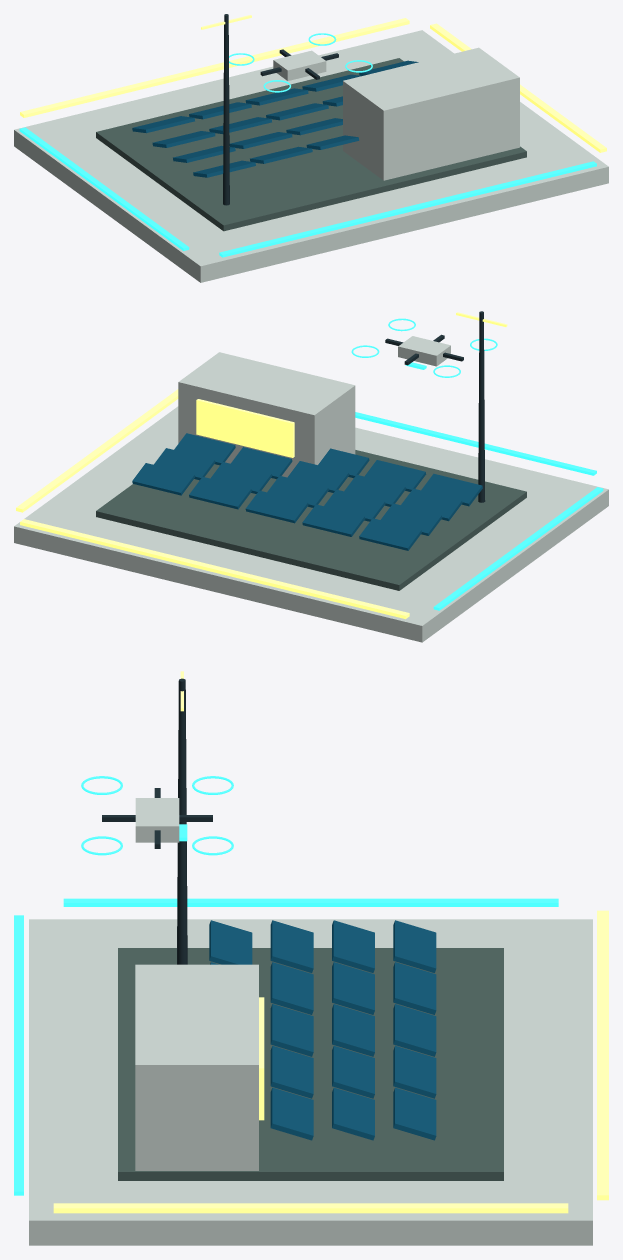
File: solar-operations-landmark.glb
3 renders of one model, top to bottom at view 1: azimuth 30°, elevation 25°; view 2: azimuth 150°, elevation 25°; view 3: azimuth 270°, elevation 25°, orthographic. The views are drawn at different scales.
Visible parts, largest first — view 1: rj-solar-operations-landmark-clickable-district-pad, rj-solar-operations-landmark-inner-service-plaza, rj-solar-operations-landmark-inverter-hall, rj-solar-operations-landmark-front-status-rail, rj-solar-operations-landmark-rear-service-rail, rj-solar-operations-landmark-left-service-rail, rj-solar-operations-landmark-right-status-rail, rj-solar-operations-landmark-met-mast, rj-solar-operations-landmark-solar-inspection-drone-body, rj-solar-operations-landmark-pv-panel-1-1, rj-solar-operations-landmark-pv-panel-2-1, rj-solar-operations-landmark-pv-panel-2-3 (+10 smaller); view 2: rj-solar-operations-landmark-clickable-district-pad, rj-solar-operations-landmark-inner-service-plaza, rj-solar-operations-landmark-inverter-hall, rj-solar-operations-landmark-inverter-glass-bay, rj-solar-operations-landmark-front-status-rail, rj-solar-operations-landmark-right-status-rail, rj-solar-operations-landmark-rear-service-rail, rj-solar-operations-landmark-left-service-rail, rj-solar-operations-landmark-pv-panel-1-3, rj-solar-operations-landmark-pv-panel-1-2, rj-solar-operations-landmark-pv-panel-1-1, rj-solar-operations-landmark-pv-panel-1-4 (+16 smaller); view 3: rj-solar-operations-landmark-clickable-district-pad, rj-solar-operations-landmark-inner-service-plaza, rj-solar-operations-landmark-inverter-hall, rj-solar-operations-landmark-right-status-rail, rj-solar-operations-landmark-left-service-rail, rj-solar-operations-landmark-front-status-rail, rj-solar-operations-landmark-rear-service-rail, rj-solar-operations-landmark-met-mast, rj-solar-operations-landmark-solar-inspection-drone-body, rj-solar-operations-landmark-pv-panel-3-3, rj-solar-operations-landmark-pv-panel-1-3, rj-solar-operations-landmark-pv-panel-3-5 (+13 smaller).
Part boxes in pixels (x1,y1,x2,y2): rj-solar-operations-landmark-clickable-district-pad: (14,30,608,282); rj-solar-operations-landmark-inner-service-plaza: (96,58,526,231); rj-solar-operations-landmark-inverter-hall: (343,47,519,180); rj-solar-operations-landmark-front-status-rail: (20,18,409,117); rj-solar-operations-landmark-rear-service-rail: (219,161,596,257); rj-solar-operations-landmark-left-service-rail: (19,127,189,250); rj-solar-operations-landmark-right-status-rail: (430,23,606,152); rj-solar-operations-landmark-met-mast: (223,14,229,205); rj-solar-operations-landmark-solar-inspection-drone-body: (273,50,326,80); rj-solar-operations-landmark-pv-panel-1-1: (132,116,194,133); rj-solar-operations-landmark-pv-panel-2-1: (152,131,215,147); rj-solar-operations-landmark-pv-panel-2-3: (266,103,328,120); rj-solar-operations-landmark-clickable-district-pad: (14,406,608,642); rj-solar-operations-landmark-inner-service-plaza: (96,450,526,590); rj-solar-operations-landmark-inverter-hall: (178,352,355,477); rj-solar-operations-landmark-inverter-glass-bay: (196,399,294,457); rj-solar-operations-landmark-front-status-rail: (20,519,409,619); rj-solar-operations-landmark-right-status-rail: (16,389,178,512); rj-solar-operations-landmark-rear-service-rail: (355,412,596,475); rj-solar-operations-landmark-left-service-rail: (433,487,603,610); rj-solar-operations-landmark-pv-panel-1-3: (245,490,308,523); rj-solar-operations-landmark-pv-panel-1-2: (302,504,365,536); rj-solar-operations-landmark-pv-panel-1-1: (359,518,421,550); rj-solar-operations-landmark-pv-panel-1-4: (189,476,251,509); rj-solar-operations-landmark-clickable-district-pad: (29,919,592,1245); rj-solar-operations-landmark-inner-service-plaza: (118,948,503,1180); rj-solar-operations-landmark-inverter-hall: (135,964,258,1170); rj-solar-operations-landmark-right-status-rail: (53,1203,568,1213); rj-solar-operations-landmark-left-service-rail: (63,898,558,906); rj-solar-operations-landmark-front-status-rail: (597,910,608,1200); rj-solar-operations-landmark-rear-service-rail: (14,915,23,1195); rj-solar-operations-landmark-met-mast: (177,678,187,964); rj-solar-operations-landmark-solar-inspection-drone-body: (135,798,179,842); rj-solar-operations-landmark-pv-panel-3-3: (270,1004,313,1056); rj-solar-operations-landmark-pv-panel-1-3: (393,1004,436,1056); rj-solar-operations-landmark-pv-panel-3-5: (270,1087,313,1140).
Size of the model in its own units: 7.41 by 3.58 by 6.01.
